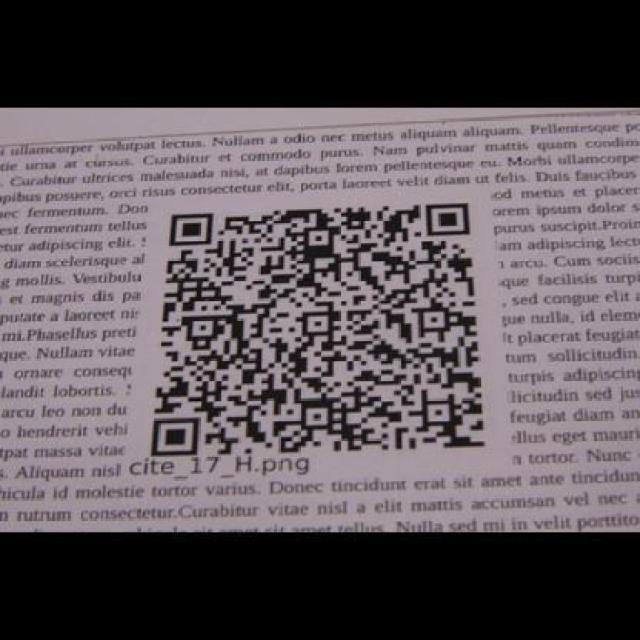QRCode: (145, 195, 494, 458)
